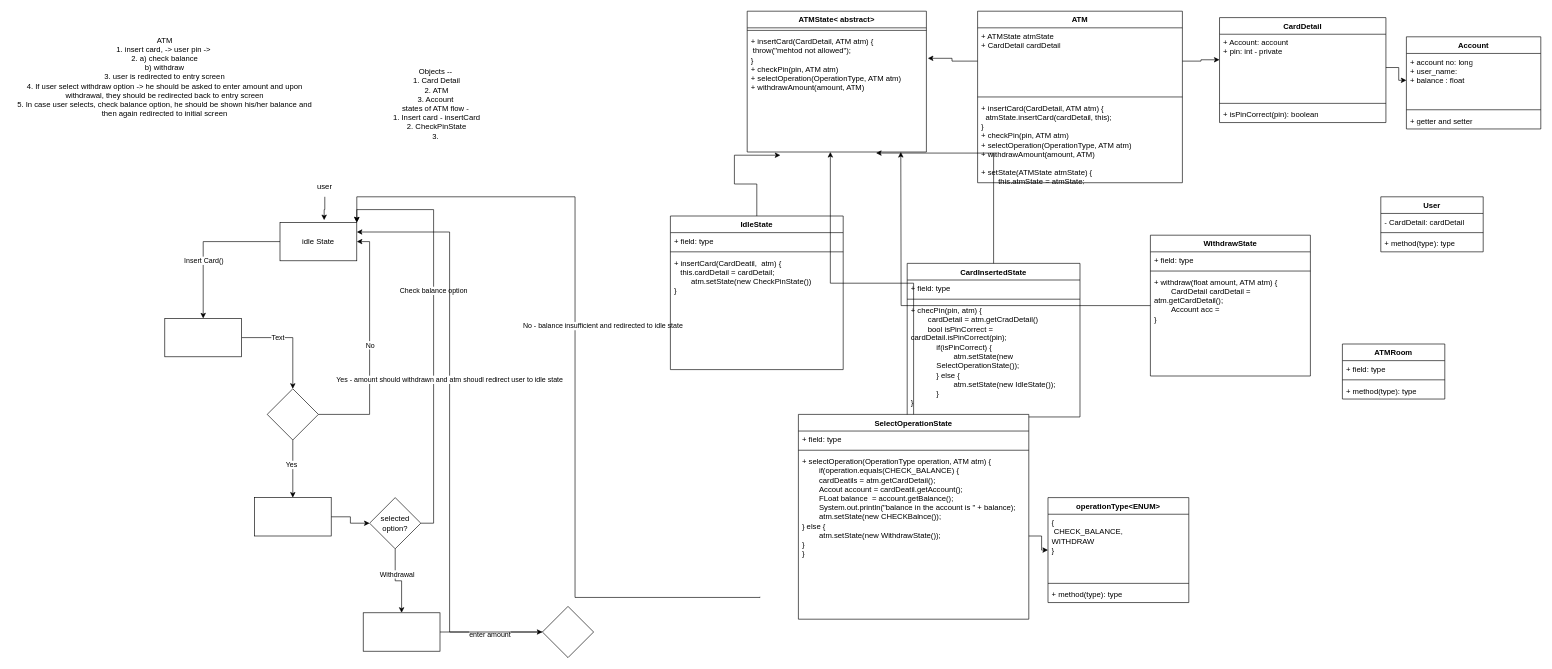
Some shapes in this 1552 by 669 pixel diagram are drawn without their labels. Each missing label, with the centre of its shape:
"CheckPin State" goes at [203,337].
"Is balance sufficient ?" goes at [568,632].
"Is pin correct?" goes at [292,414].
"Select operation State" goes at [292,516].
"Withdraw state" goes at [401,631].
